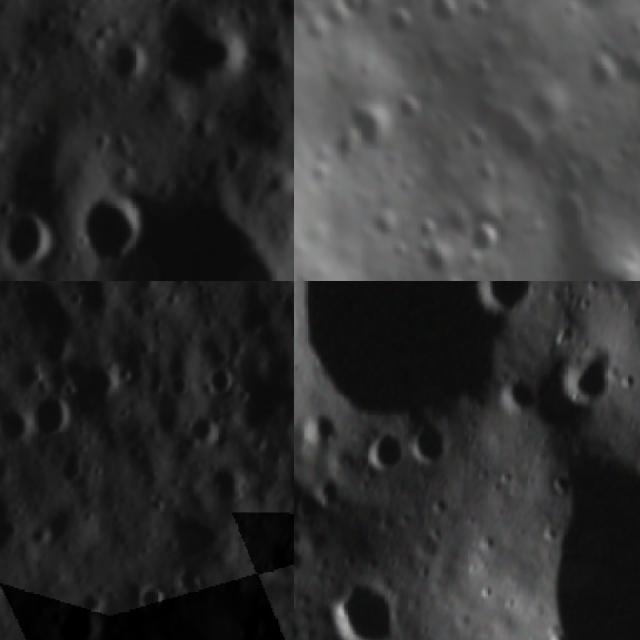crater: (294, 281, 566, 477), (525, 435, 640, 640), (95, 179, 294, 281), (147, 0, 258, 105), (75, 178, 144, 270), (0, 201, 65, 281), (324, 578, 407, 640), (480, 94, 548, 160), (335, 93, 400, 156), (44, 585, 112, 640), (406, 411, 462, 477), (19, 380, 80, 440), (558, 343, 619, 400), (474, 281, 551, 319), (104, 32, 151, 94), (356, 428, 410, 478), (126, 576, 173, 622), (553, 0, 635, 26), (578, 51, 624, 94), (545, 192, 593, 232), (301, 2, 341, 47), (389, 82, 429, 124), (462, 214, 502, 255), (300, 406, 342, 443), (364, 204, 402, 244), (416, 237, 450, 277), (402, 209, 441, 243), (546, 156, 582, 192), (463, 48, 500, 82), (467, 153, 499, 187), (382, 0, 413, 33), (415, 0, 459, 23), (456, 0, 490, 22), (458, 121, 485, 148), (329, 0, 366, 14), (287, 168, 294, 203)
